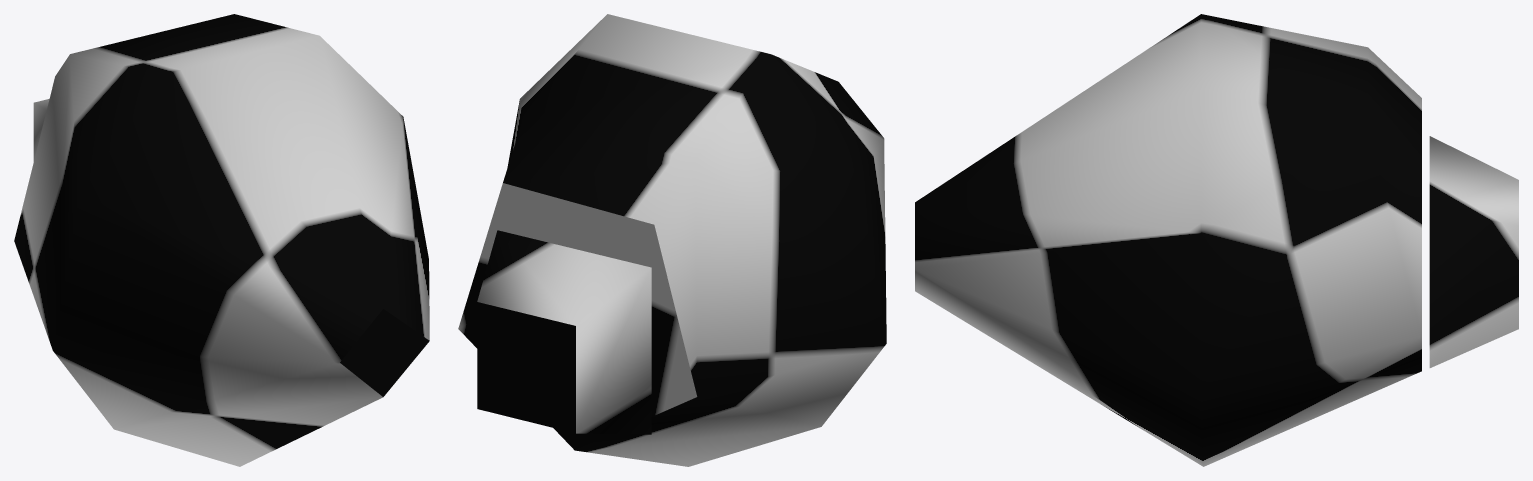
File: drone_iris_1.obj
The picture shows the model from 3 angles, left to right: view 1: azimuth 30°, elevation 25°; view 2: azimuth 150°, elevation 25°; view 3: azimuth 270°, elevation 25°; orthographic projection. The views are drawn at different scales.
Parts seen in each view (by area): view 1: iris_regular_upgrade_1; view 2: iris_regular_upgrade_1; view 3: iris_regular_upgrade_1.
Boxes of the visible parts, box(x1,y1,x2,y2) form: iris_regular_upgrade_1: box(14, 14, 429, 466); iris_regular_upgrade_1: box(458, 14, 886, 466); iris_regular_upgrade_1: box(915, 14, 1518, 466).
Bounding box in the file's own units: 11.4 × 11.95 × 15.76.
1 material, 1 textured.
